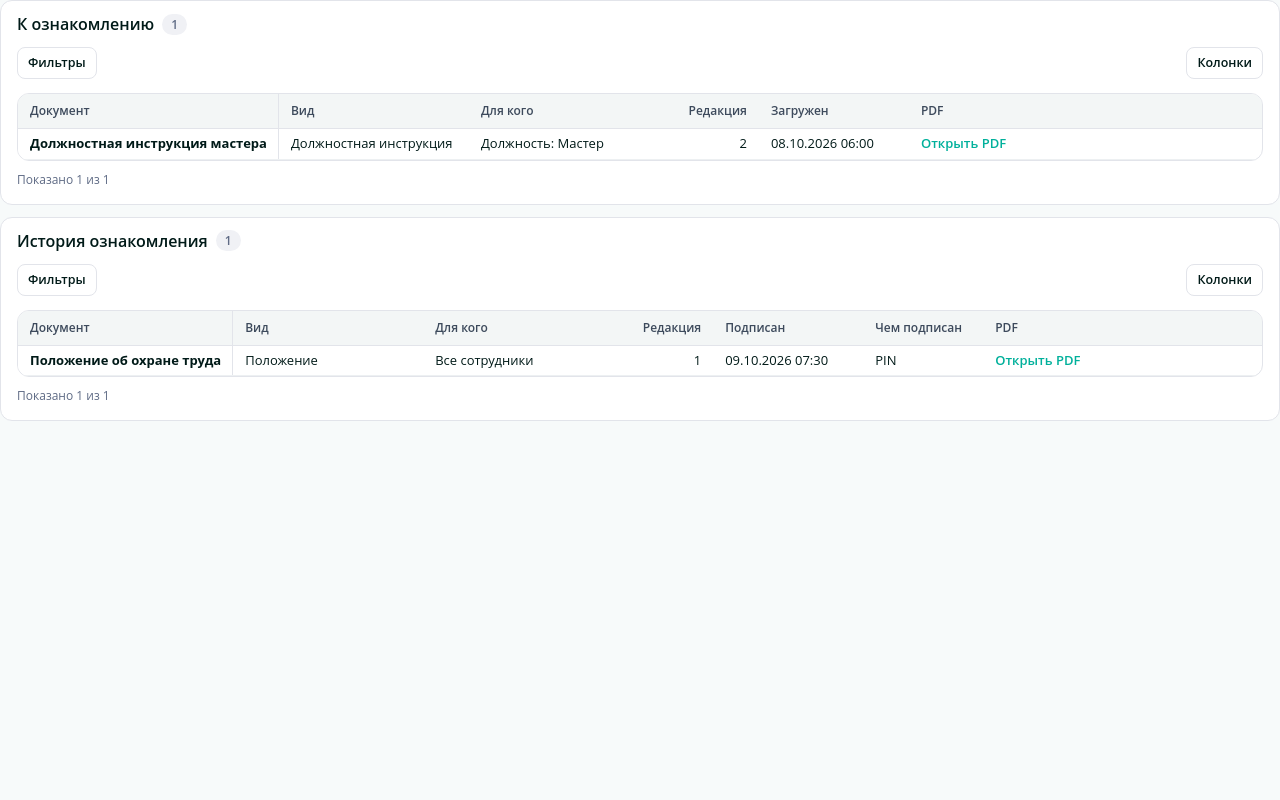
Scenario: shows the server's refusal for a wrong PIN and keeps the document unsigned
The width and height of the screenshot is (1280, 800).
Click the text "Должностная инструкция мастера" at (148, 144), box [30, 135, 267, 153]
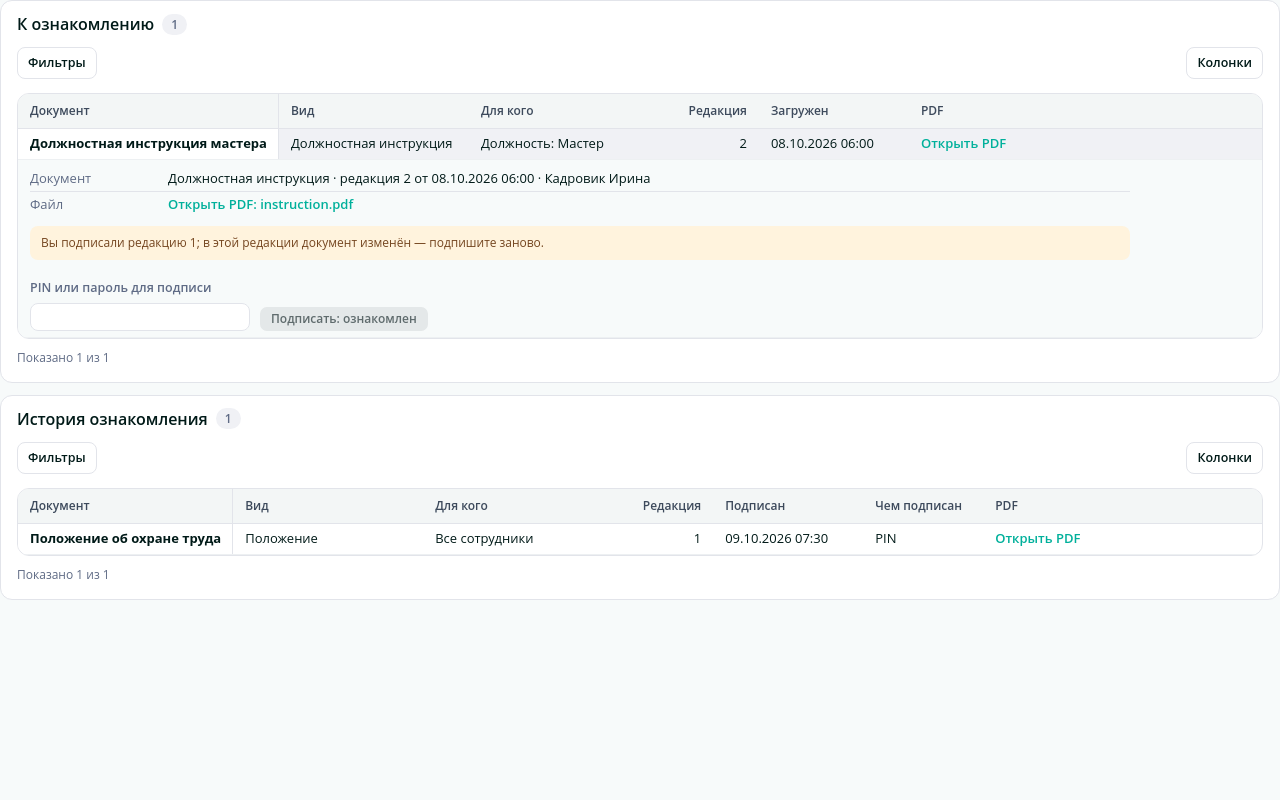
Type "000000" into the password field labelled "PIN или пароль для подписи" at (140, 317), box [30, 303, 250, 331]
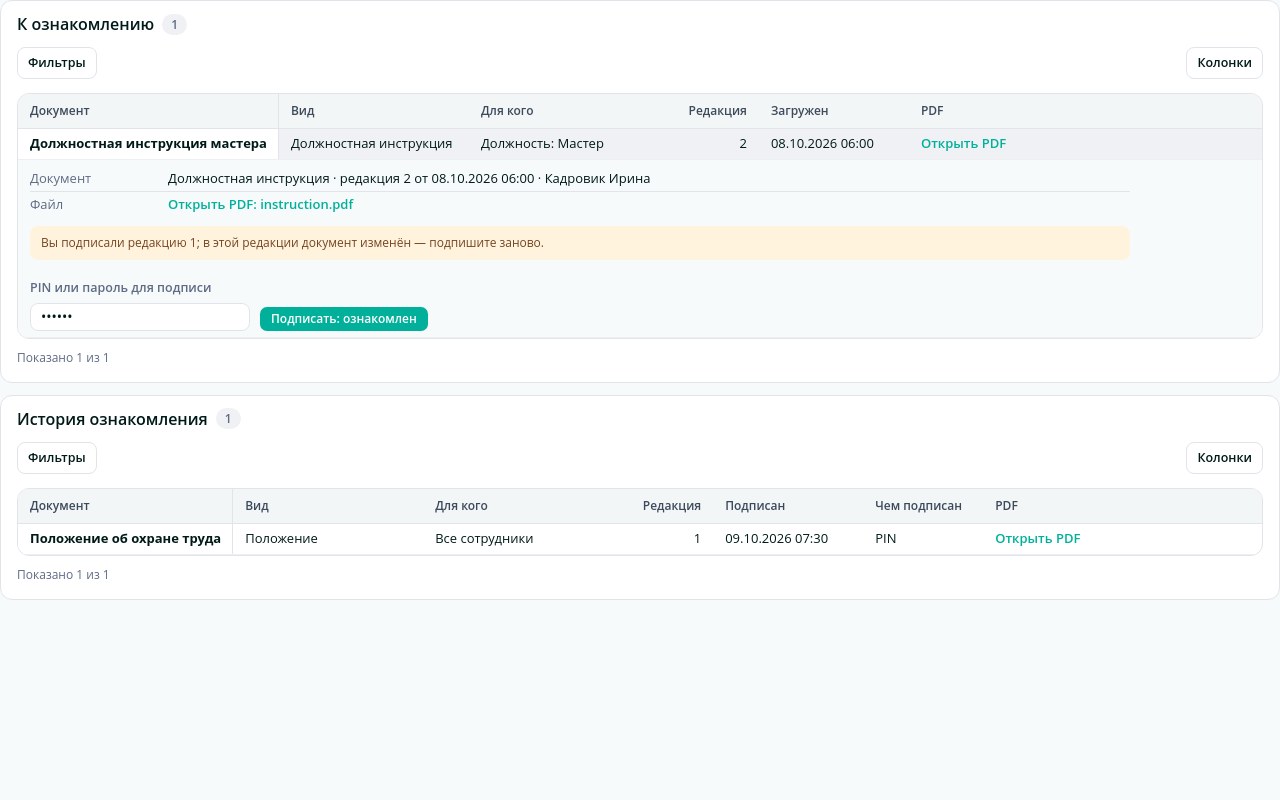
Click the button "Подписать: ознакомлен" at (344, 319), box [260, 307, 428, 331]
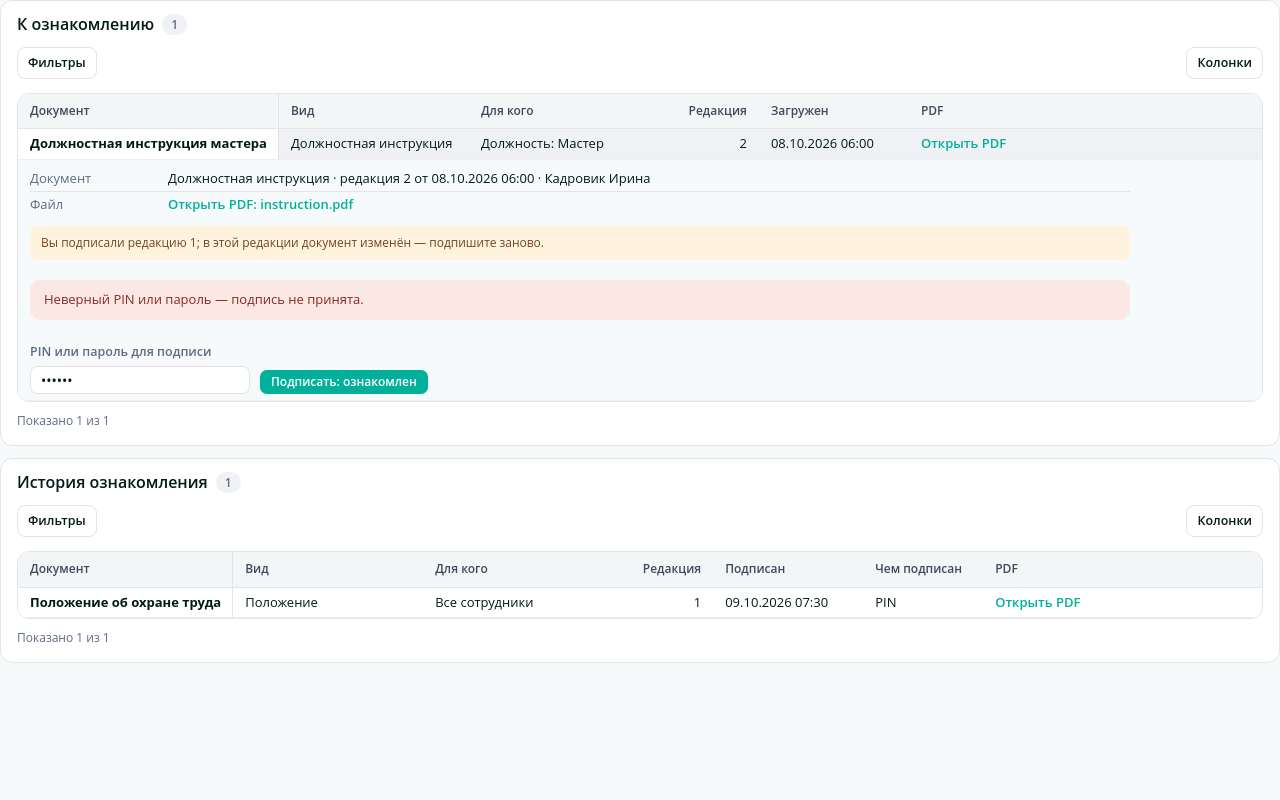
Expected: the button "Подписать: ознакомлен" is enabled, [260, 370, 428, 394]
Expected: the message reads "Неверный PIN или пароль — подпись не принята.", [44, 290, 364, 308]
